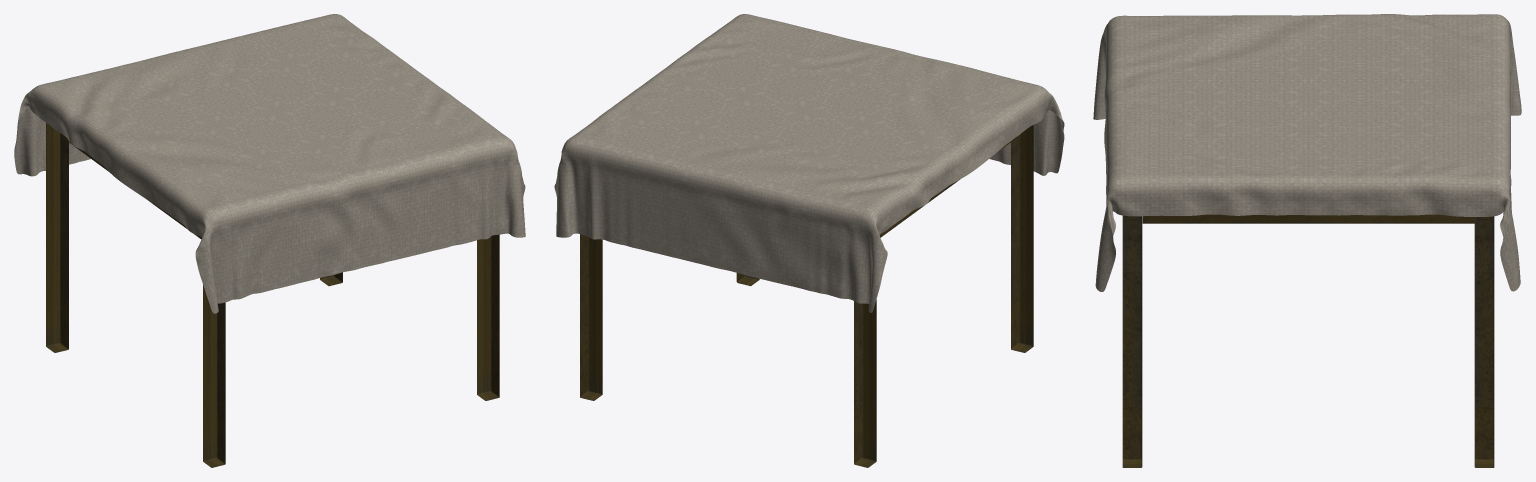
The model's file is WoodTable2.fbx.
3 views of the same model, side by side, from view 1: azimuth 30°, elevation 25°; view 2: azimuth 150°, elevation 25°; view 3: azimuth 270°, elevation 25° (orthographic). The views are drawn at different scales.
Visible parts, largest first — view 1: Fabric_Baked, Table_Baked; view 2: Fabric_Baked, Table_Baked; view 3: Fabric_Baked, Table_Baked.
Part boxes in pixels (left/top/right/bottom): Fabric_Baked: left=14, top=14, right=525, bottom=313; Table_Baked: left=46, top=123, right=499, bottom=467; Fabric_Baked: left=554, top=14, right=1064, bottom=312; Table_Baked: left=580, top=125, right=1033, bottom=467; Fabric_Baked: left=1093, top=14, right=1521, bottom=291; Table_Baked: left=1122, top=214, right=1494, bottom=467.
Bounding box in the file's own units: 112 × 84.31 × 111.
2 materials, 2 textured.
